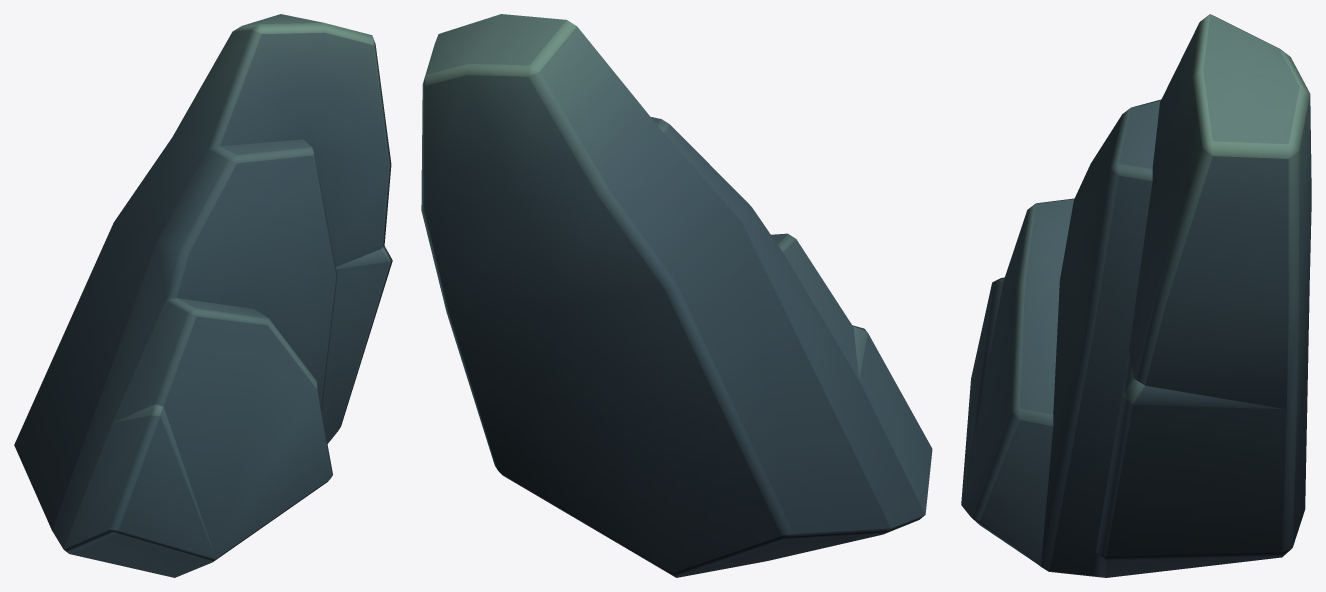
File: rock_28.fbx
The picture shows the model from 3 angles, left to right: view 1: azimuth 30°, elevation 25°; view 2: azimuth 150°, elevation 25°; view 3: azimuth 270°, elevation 25°; orthographic projection. The views are drawn at different scales.
Parts seen in each view (by area): view 1: rock_28; view 2: rock_28; view 3: rock_28.
Part boxes in pixels (left/top/right/bottom): rock_28: left=14, top=14, right=392, bottom=577; rock_28: left=421, top=14, right=932, bottom=577; rock_28: left=961, top=14, right=1311, bottom=577.
Bounding box in the file's own units: 612 × 743 × 373.
